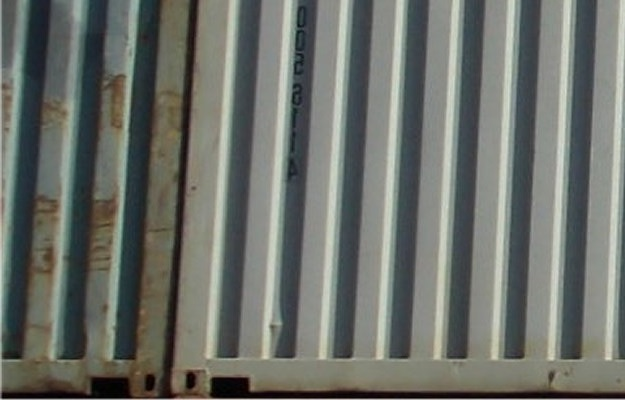container_no_door: (171, 1, 616, 397), (3, 2, 179, 400)
